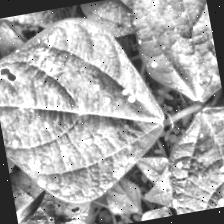Bean Rust: (0, 5, 181, 213), (130, 0, 222, 105), (155, 104, 224, 215)
